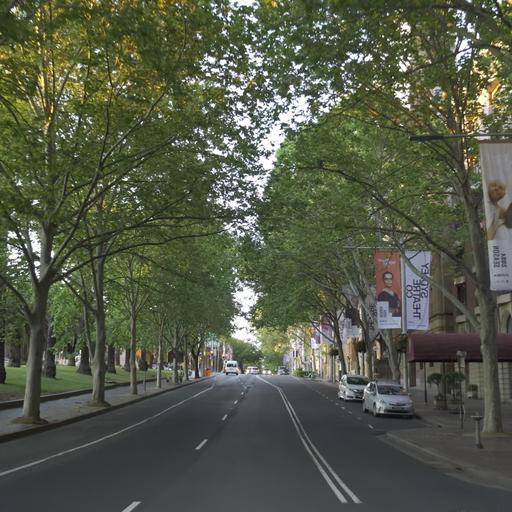Street light: (407, 126, 511, 440), (408, 130, 511, 142), (455, 348, 467, 429)
